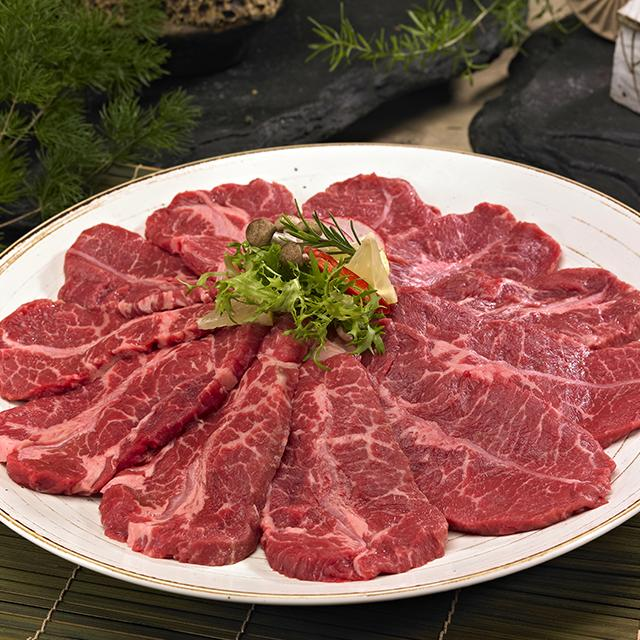beef: (26, 259, 379, 536), (384, 217, 640, 499)
